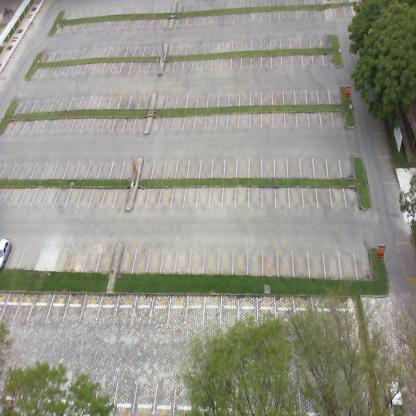car: (383, 377, 405, 411), (0, 236, 12, 270)
